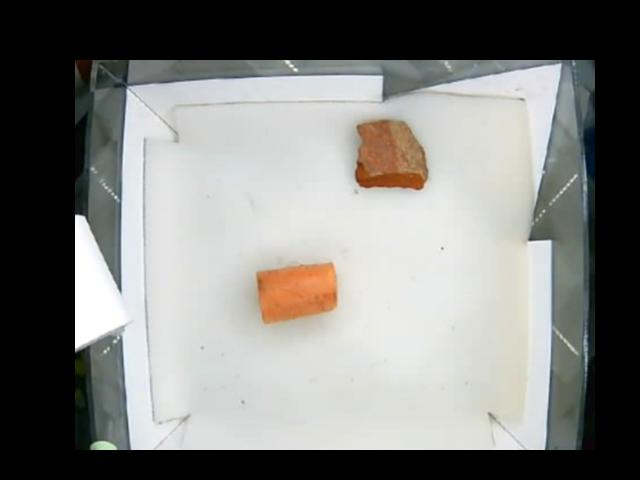Brisk: (352, 119, 431, 190)
Carrot: (253, 261, 336, 324)
